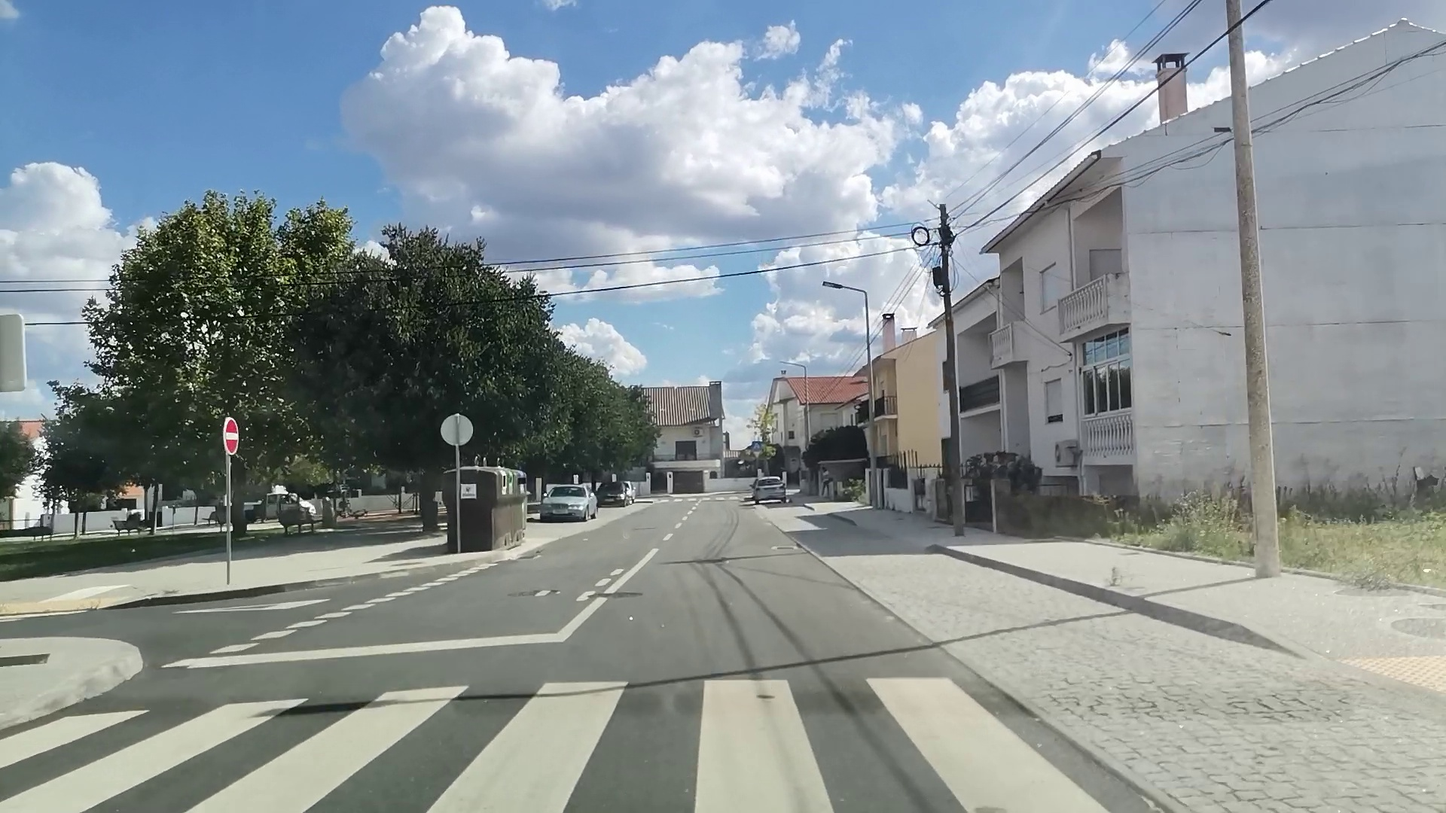Stairs: (0, 675, 1115, 813)
